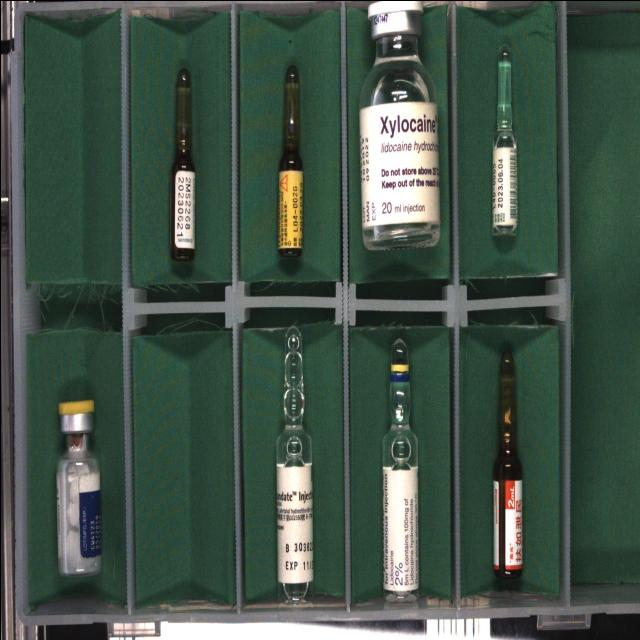Vials: (359, 0, 439, 250), (55, 398, 100, 575)
